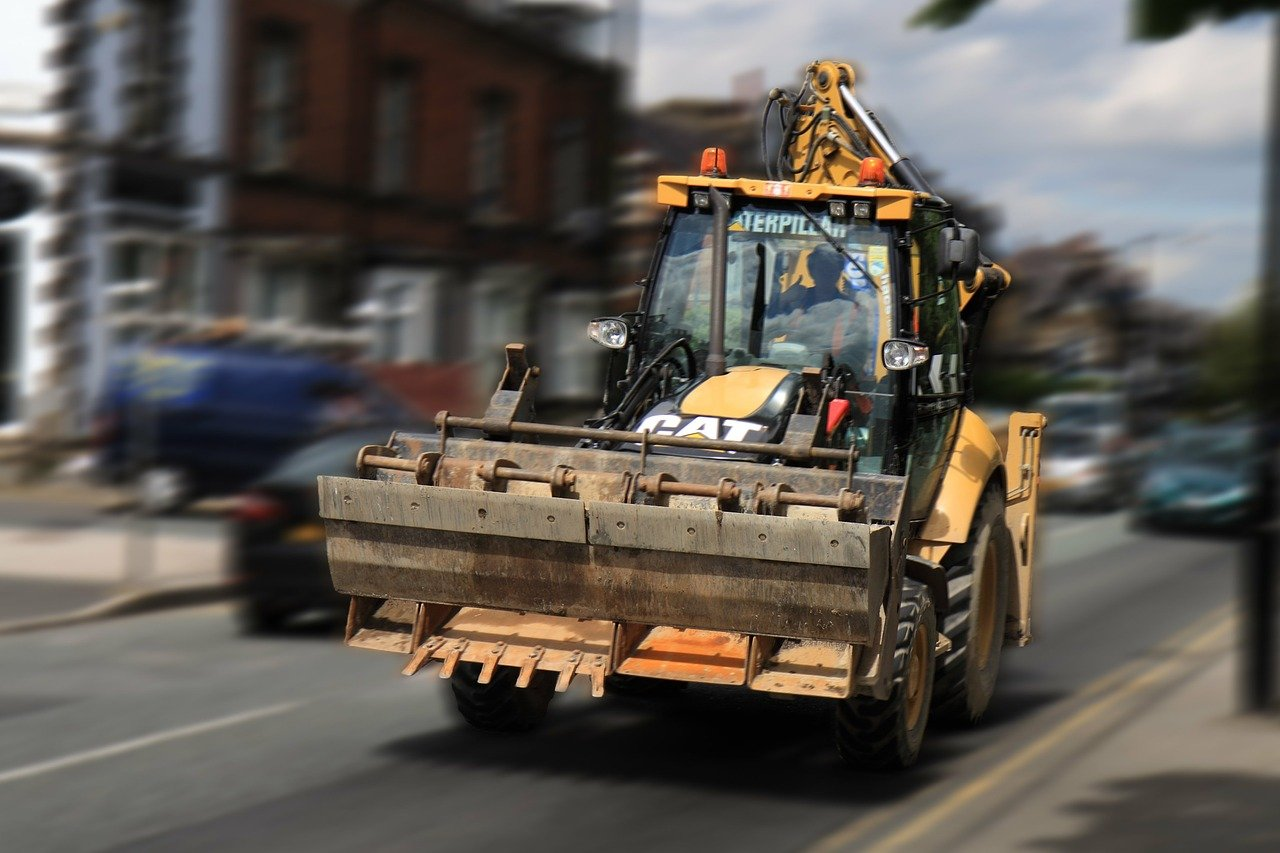bulldozer: (308, 61, 1046, 768)
